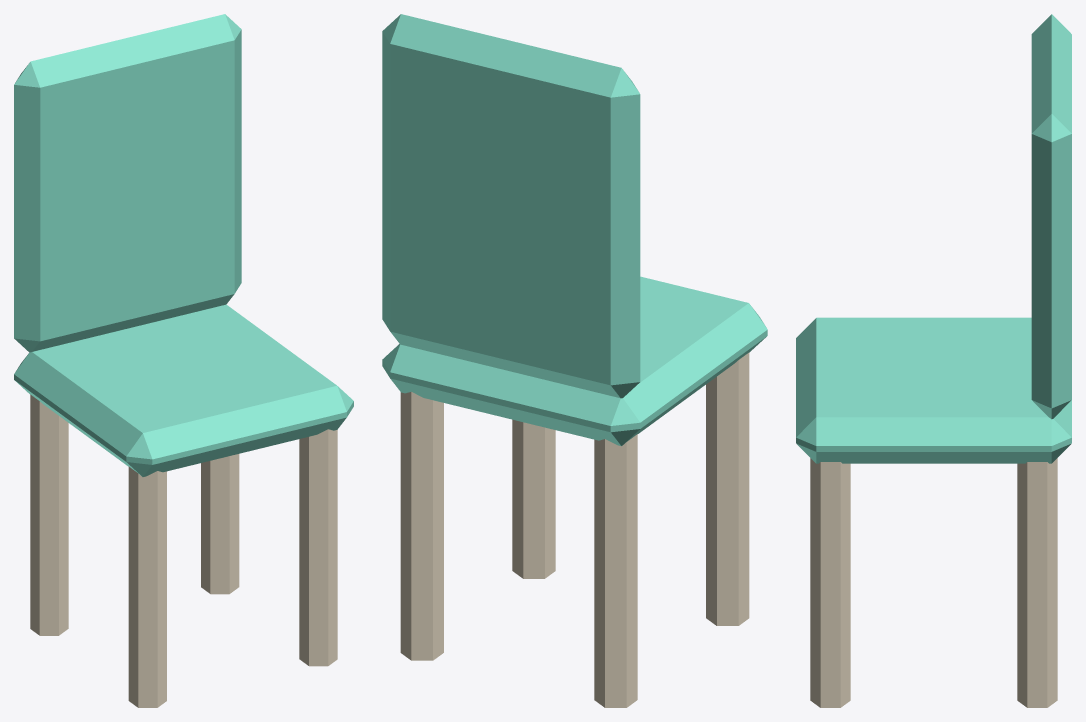
3 renders of one model, left to right at view 1: azimuth 30°, elevation 25°; view 2: azimuth 150°, elevation 25°; view 3: azimuth 270°, elevation 25°, orthographic. The views are drawn at different scales.
Parts seen in each view (by area): view 1: Backrest, Seat, Leg, Leg.002, Leg.001, Leg.003; view 2: Backrest, Seat, Leg.001, Leg.003, Leg, Leg.002; view 3: Seat, Backrest, Leg.002, Leg.003.
Boxes of the visible parts, x1,y1,x2,y2 form: Backrest: (14,14,241,352); Seat: (14,304,353,476); Leg: (128,466,166,707); Leg.002: (299,429,337,666); Leg.001: (30,394,68,635); Leg.003: (201,454,239,594); Backrest: (382,14,640,398); Seat: (382,276,767,446); Leg.001: (594,434,637,707); Leg.003: (400,391,443,660); Leg: (706,352,749,625); Leg.002: (512,419,555,578); Seat: (796,317,1071,463); Backrest: (1031,14,1071,419); Leg.002: (810,458,850,707); Leg.003: (1017,458,1057,707).
Size of the model in its own units: 0.432 by 1.02 by 0.432.
Materials: 1 (1 with a texture image).
